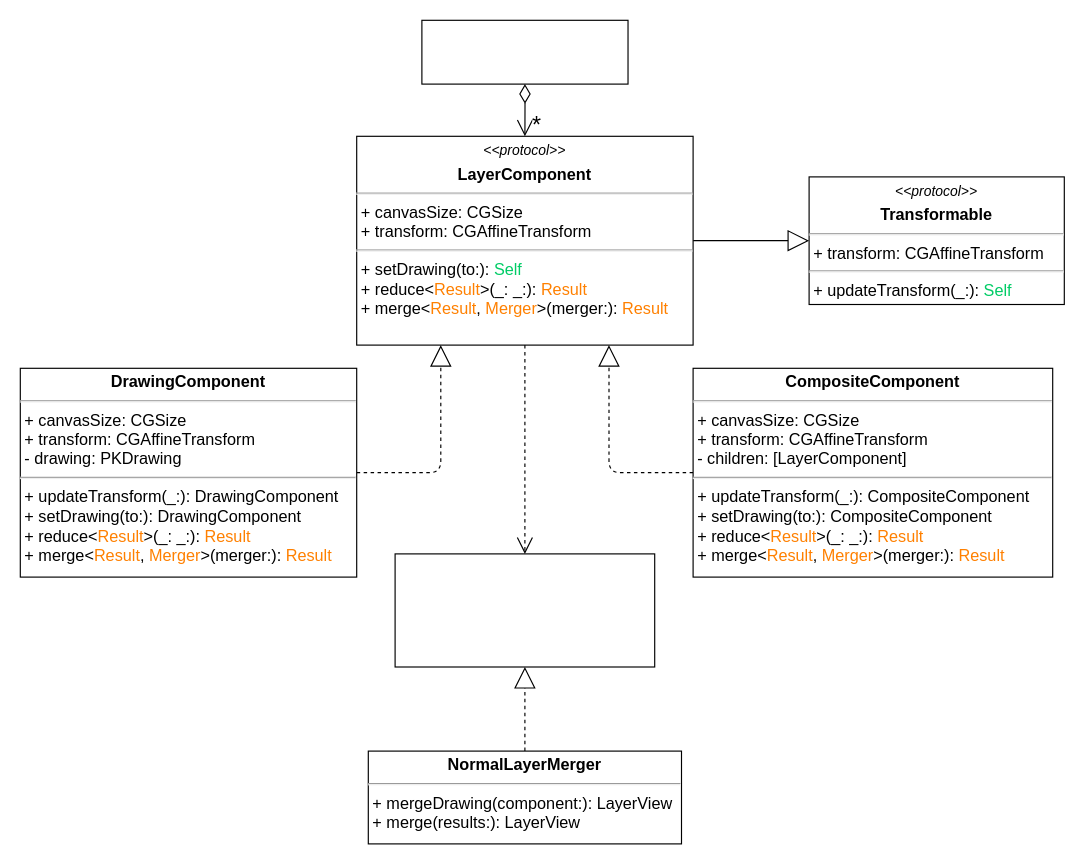
The diagram is 1085 pixels wide and 864 high, and some of its shapes have lost their labels. Here are the shapes that lost their labels. From the top down, the centre of each, then its label:
At point (524, 51): "Layer".
At point (524, 610): "<<protocol>> LayerMerger + mergeDrawing(component:): T + merge(results:): T".
